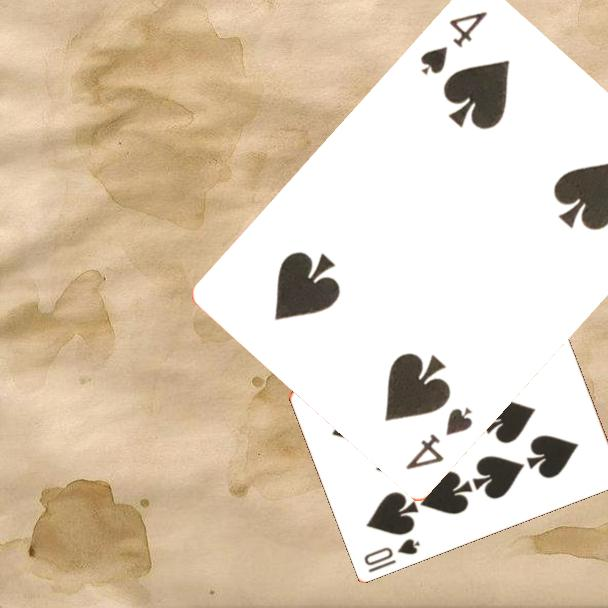s04: (402, 403, 476, 474), (417, 8, 491, 79)
s10: (360, 534, 423, 575)
